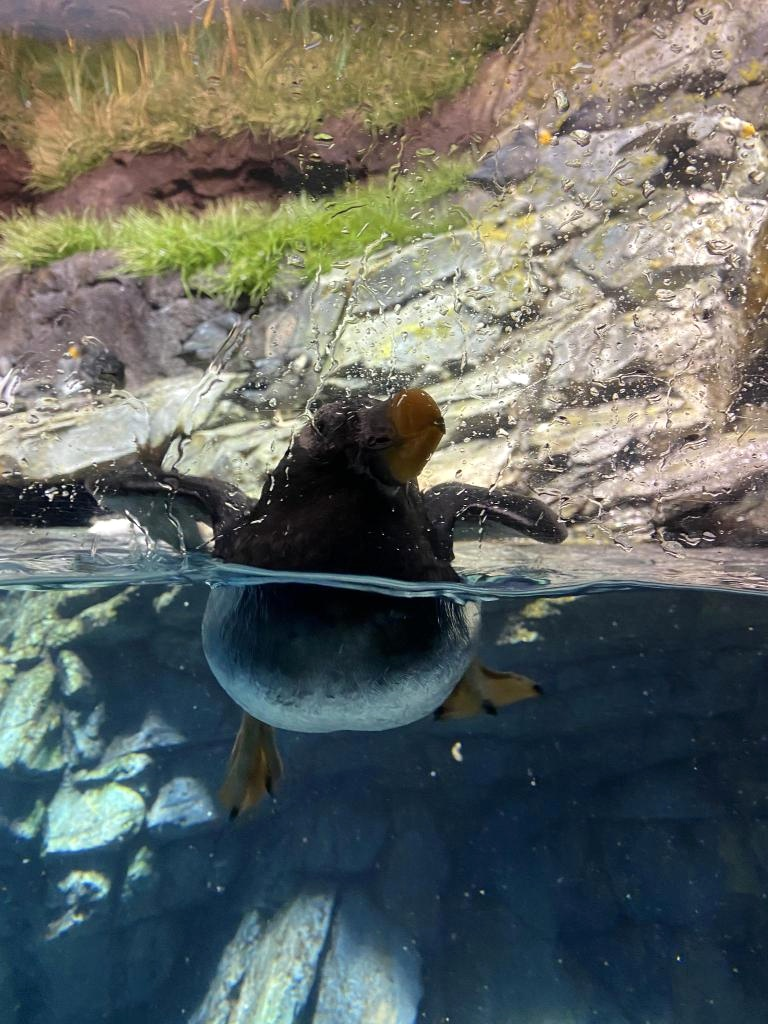puffin: (91, 392, 571, 822), (615, 117, 755, 187), (67, 332, 127, 396)
